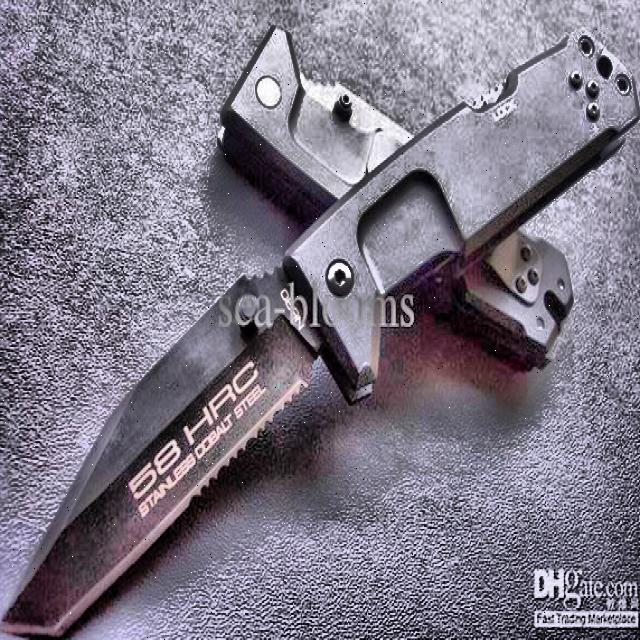knife: (0, 26, 639, 638)
